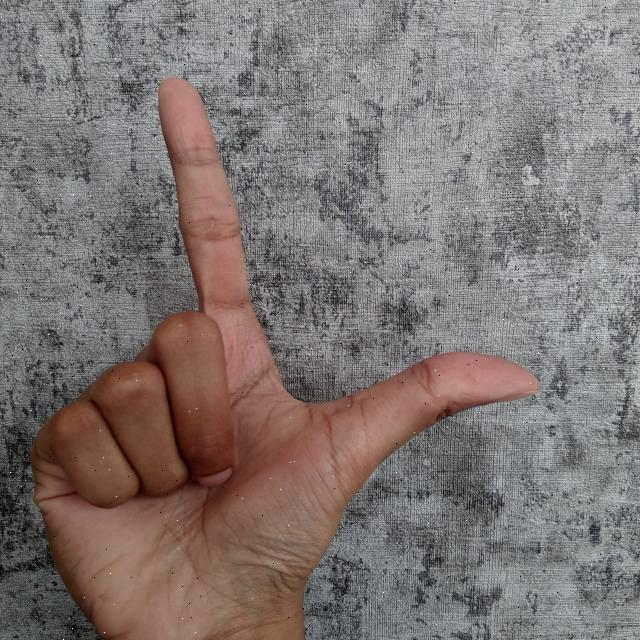L: (28, 67, 548, 640)
